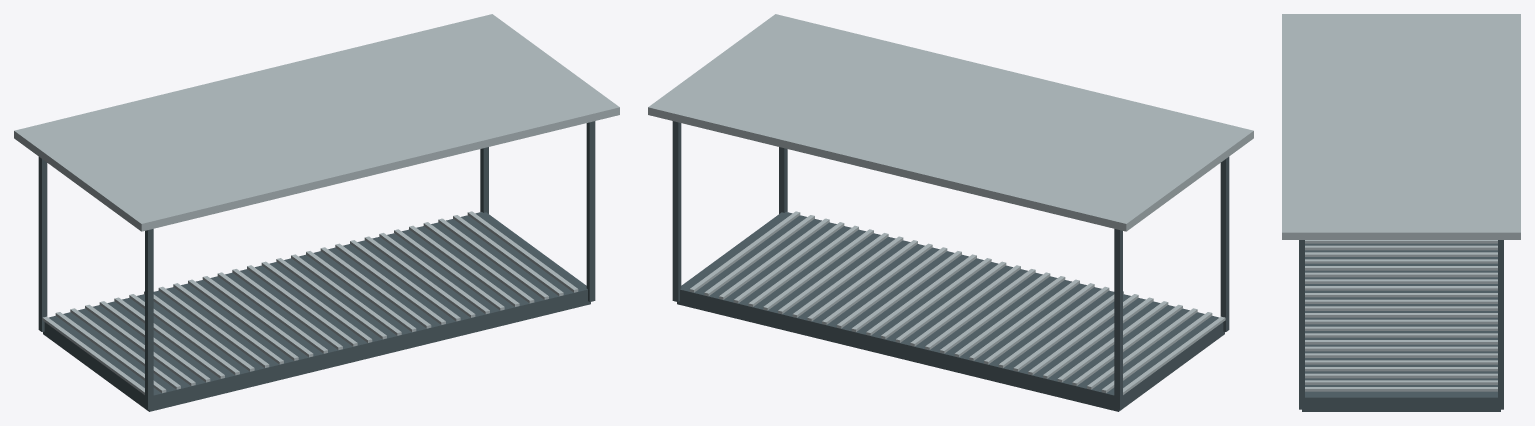
Rendered from intake.glb.
3 views of the same model, side by side, from view 1: azimuth 30°, elevation 25°; view 2: azimuth 150°, elevation 25°; view 3: azimuth 270°, elevation 25° (orthographic). The views are drawn at different scales.
Parts seen in each view (by area): view 1: intake; view 2: intake; view 3: intake.
Boxes of the visible parts, x1,y1,x2,y2 form: intake: (14,14,619,411); intake: (648,14,1253,411); intake: (1282,14,1520,411).
Bounding box in the file's own units: 13 × 5.2 × 6.
